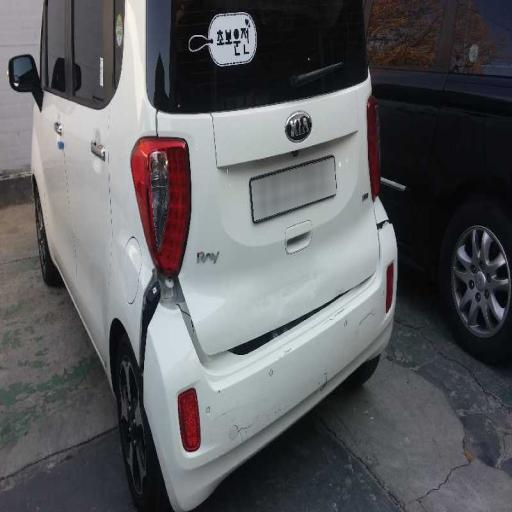broken: (130, 200, 406, 430)
